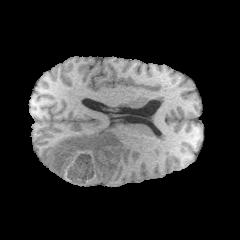glioma: (50, 124, 124, 186)
